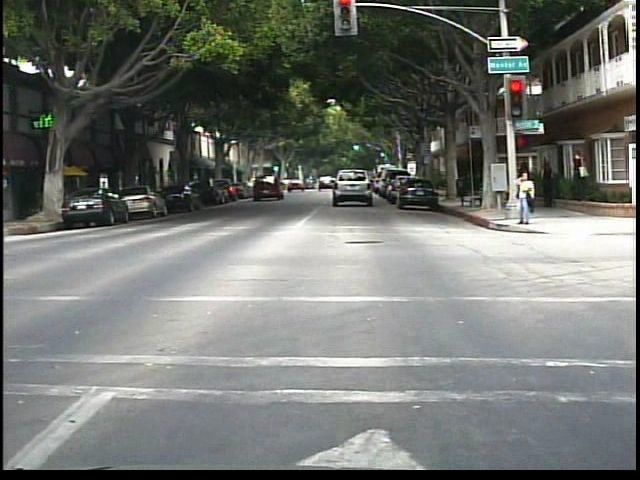person: (512, 169, 538, 229), (567, 149, 592, 203), (539, 159, 561, 217), (516, 159, 536, 214)
